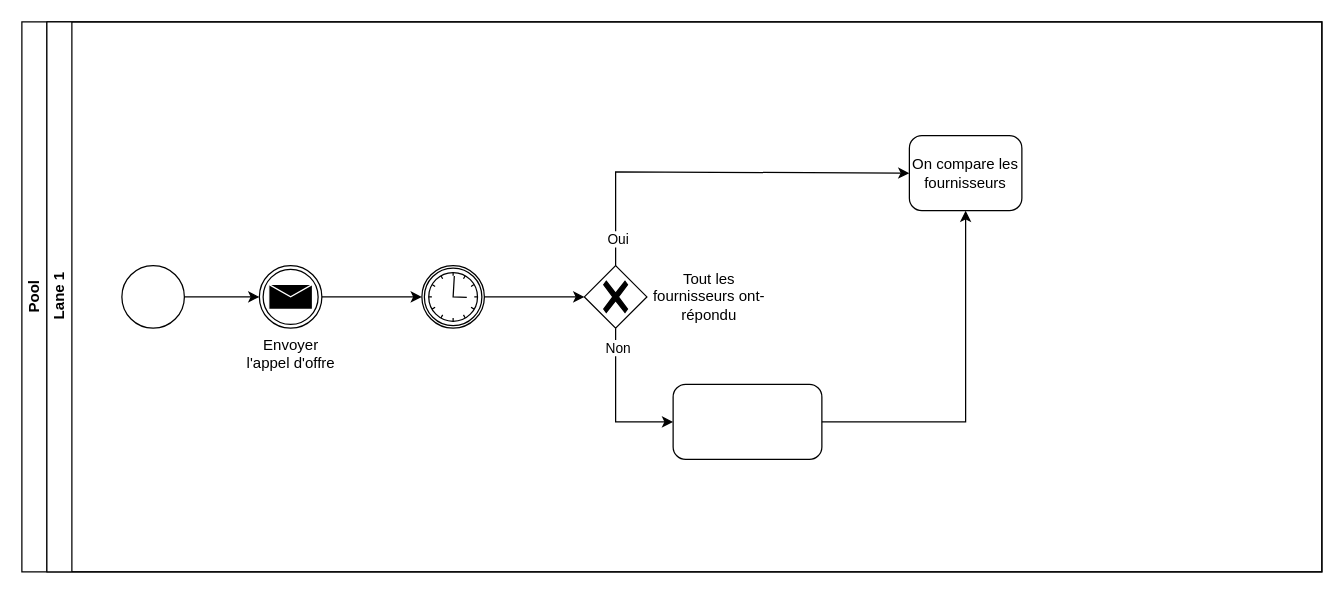
Some shapes in this 1344 by 594 pixel diagram are drawn without their labels. The shapes that lost their labels are listed below. From the top down, each one's centre as x and y in pixels, then its label:
At (452,296): "1 semaine".
At (747,421): "On les retire de la liste des fournisseurs".
